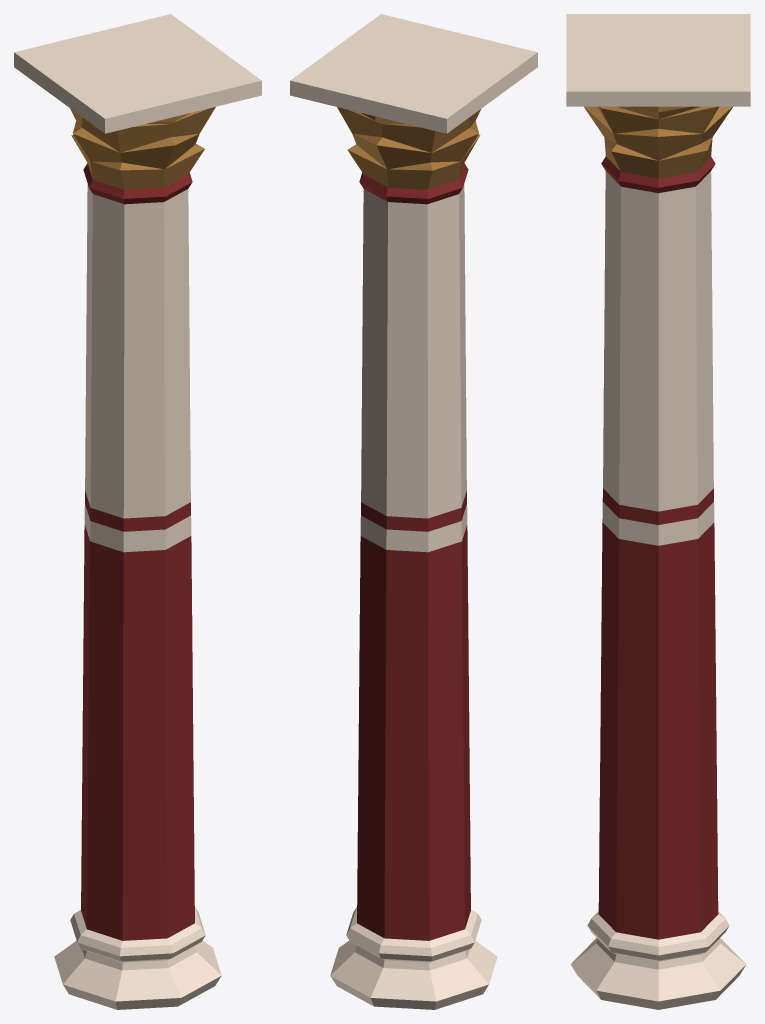
File: empire-pillar-corinthian-medium-color-empire.glb
The picture shows the model from 3 angles, left to right: view 1: azimuth 30°, elevation 25°; view 2: azimuth 150°, elevation 25°; view 3: azimuth 270°, elevation 25°; orthographic projection.
Visible parts, largest first — view 1: SM_Pillar_Corinthian_Medium_Color_Empire; view 2: SM_Pillar_Corinthian_Medium_Color_Empire; view 3: SM_Pillar_Corinthian_Medium_Color_Empire.
Part boxes in pixels (x1=…): SM_Pillar_Corinthian_Medium_Color_Empire: x1=14, y1=14, x2=261, y2=1009; SM_Pillar_Corinthian_Medium_Color_Empire: x1=290, y1=14, x2=537, y2=1009; SM_Pillar_Corinthian_Medium_Color_Empire: x1=566, y1=14, x2=750, y2=1009.
Bounding box in the file's own units: 1.08 × 6 × 1.09.
